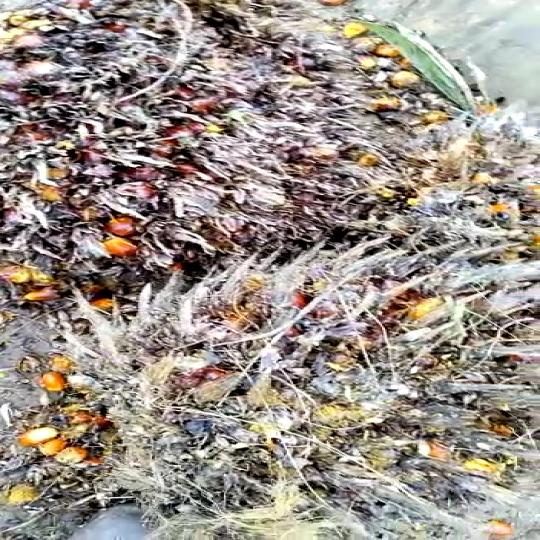terlalu masak: (49, 242, 534, 540), (0, 6, 334, 277)
